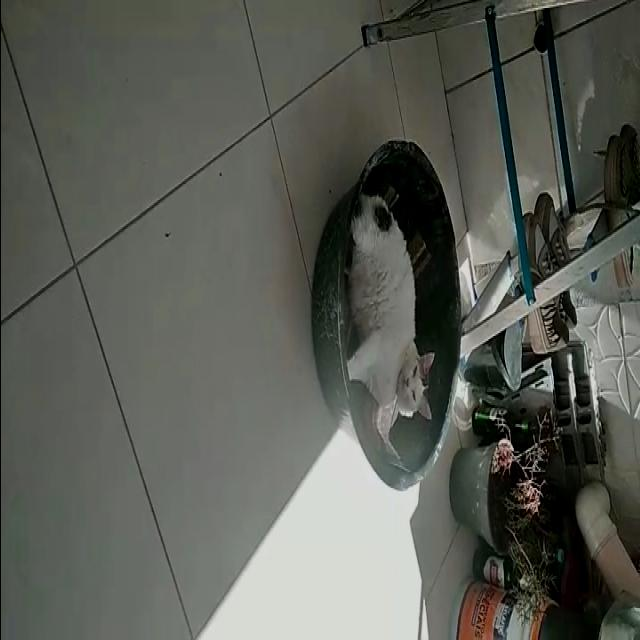Simba: (350, 189, 440, 472)
